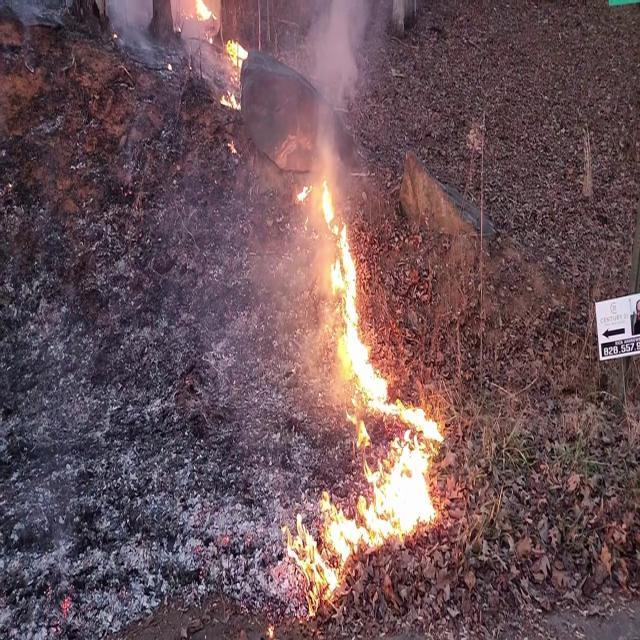Fire: (286, 406, 453, 605), (308, 168, 391, 405), (220, 32, 250, 106), (191, 0, 214, 26)
Smoke: (298, 0, 371, 126)
